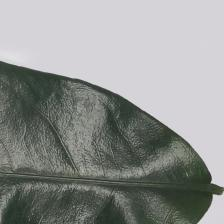healthy: (0, 47, 224, 224)
